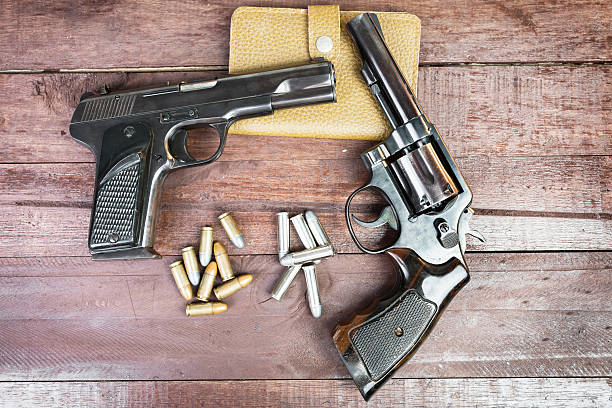gun: (330, 11, 487, 399), (69, 55, 339, 263)
